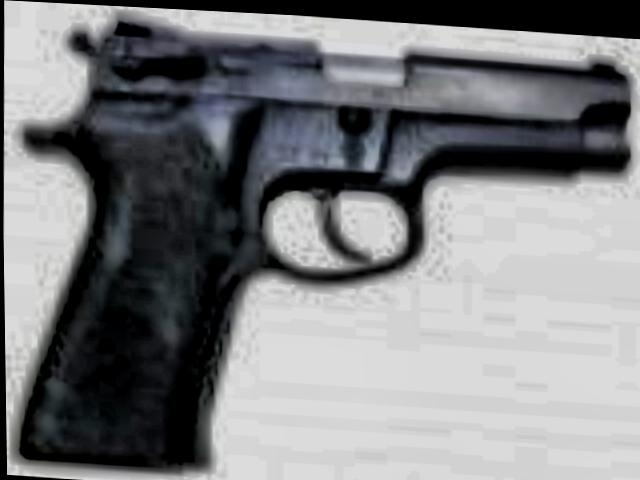pistol: (20, 1, 626, 480)
